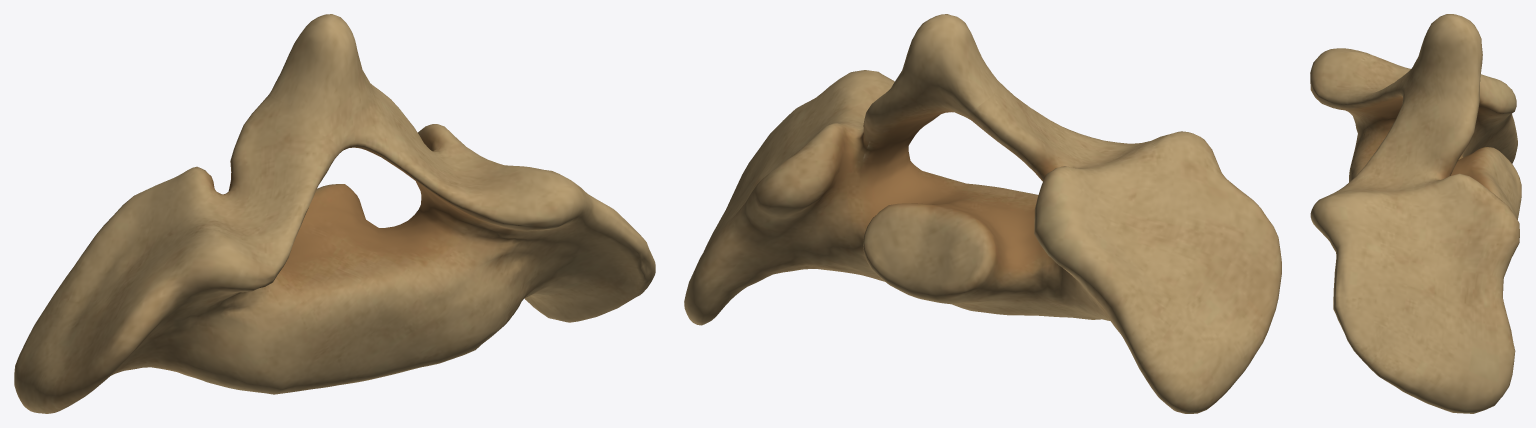
3 views of the same model, side by side, from view 1: azimuth 30°, elevation 25°; view 2: azimuth 150°, elevation 25°; view 3: azimuth 270°, elevation 25° (orthographic). The views are drawn at different scales.
Visible parts, largest first — view 1: ZBrush_defualt_group.007; view 2: ZBrush_defualt_group.007; view 3: ZBrush_defualt_group.007.
Part boxes in pixels (x1=…): ZBrush_defualt_group.007: x1=14, y1=14, x2=655, y2=413; ZBrush_defualt_group.007: x1=684, y1=14, x2=1281, y2=413; ZBrush_defualt_group.007: x1=1310, y1=14, x2=1521, y2=413.
Bounding box in the file's own units: 108 × 66.25 × 42.06.
1 material, 1 textured.
